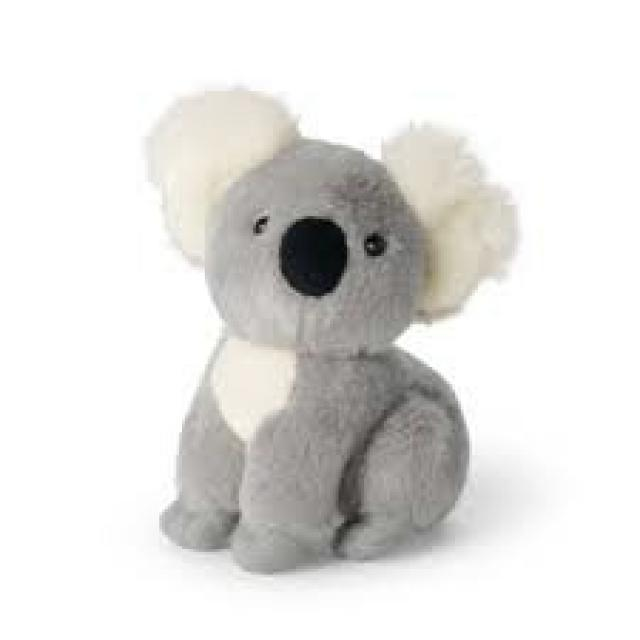koala: (148, 91, 515, 569)
